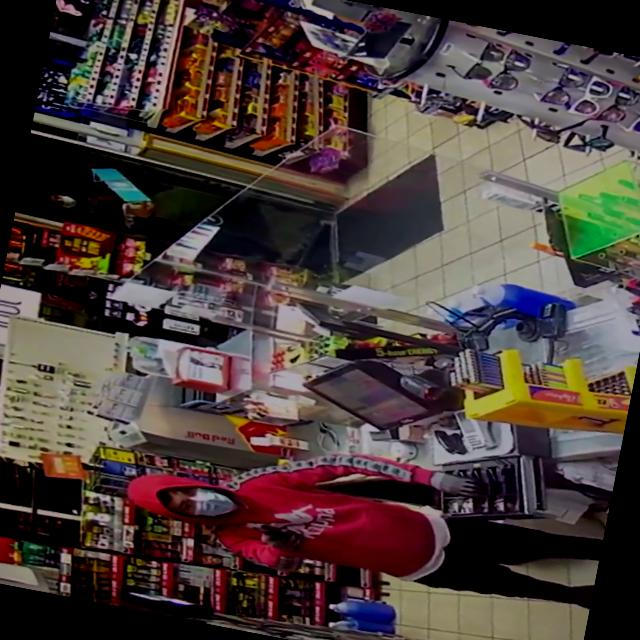handgun: (233, 502, 298, 554)
